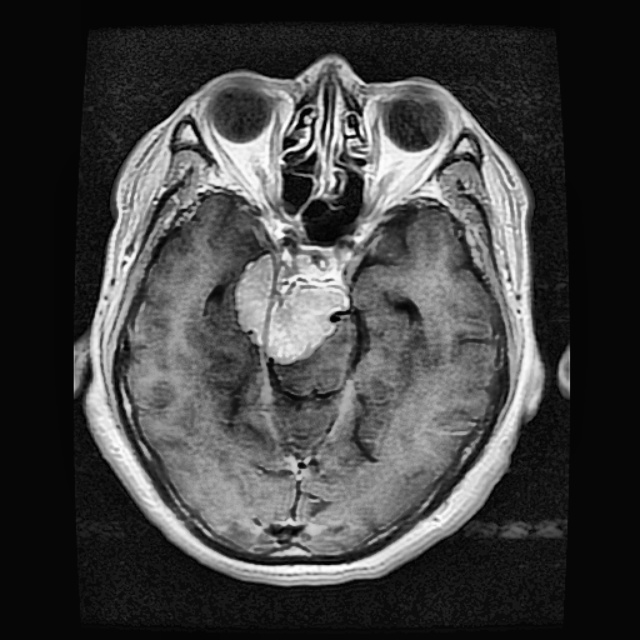Pituitary: (235, 243, 349, 363)
